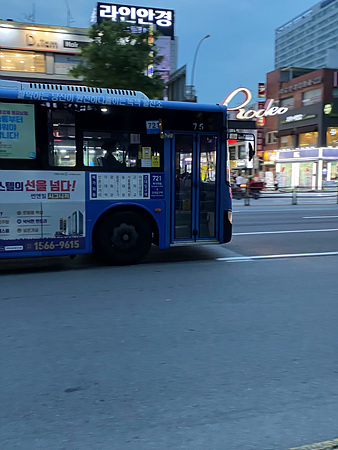entrance: (168, 133, 224, 247)
